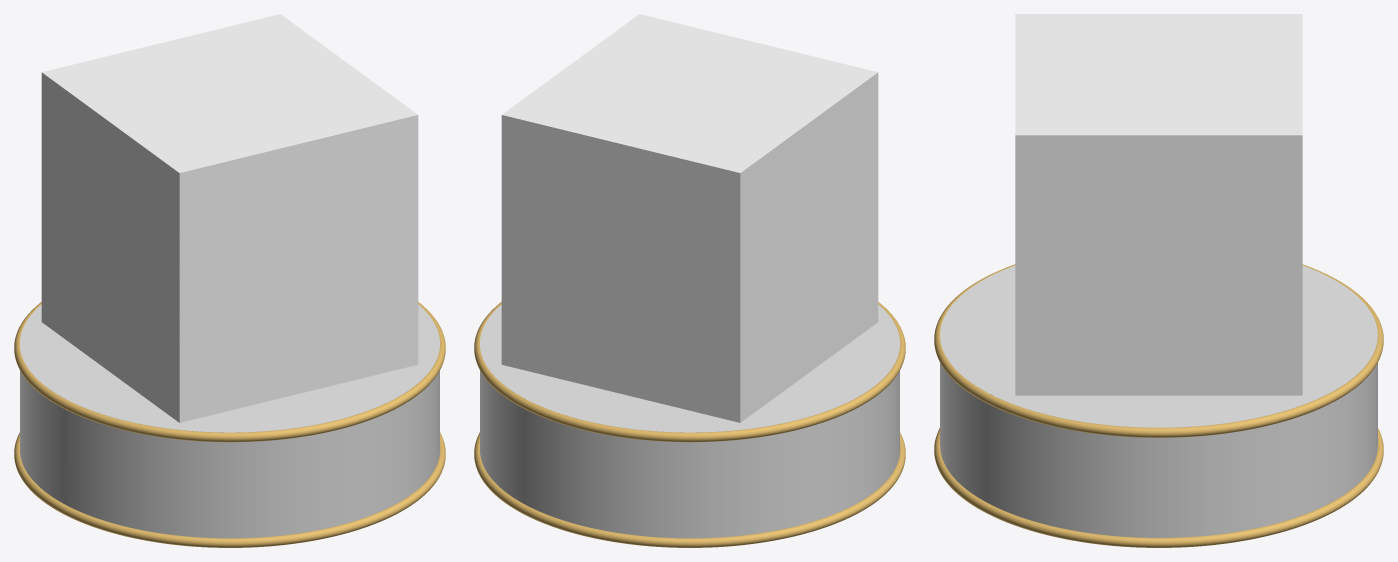
File: podium_cylinder.glb
The picture shows the model from 3 angles, left to right: view 1: azimuth 30°, elevation 25°; view 2: azimuth 150°, elevation 25°; view 3: azimuth 270°, elevation 25°; orthographic projection. The views are drawn at different scales.
Parts seen in each view (by area): view 1: placeholder, Cylinder, Torus, Torus001; view 2: placeholder, Cylinder, Torus, Torus001; view 3: placeholder, Cylinder, Torus, Torus001.
Boxes of the visible parts, x1,y1,x2,y2 form: placeholder: (41, 14, 418, 422); Cylinder: (20, 304, 439, 538); Torus: (14, 302, 445, 442); Torus001: (14, 432, 445, 547); placeholder: (501, 14, 878, 422); Cylinder: (480, 304, 899, 538); Torus: (474, 302, 905, 442); Torus001: (474, 432, 905, 547); placeholder: (1015, 14, 1302, 395); Cylinder: (940, 265, 1377, 537); Torus: (934, 264, 1383, 437); Torus001: (934, 428, 1383, 547).
Size of the model in its own units: 2.05 by 1.92 by 2.05.
